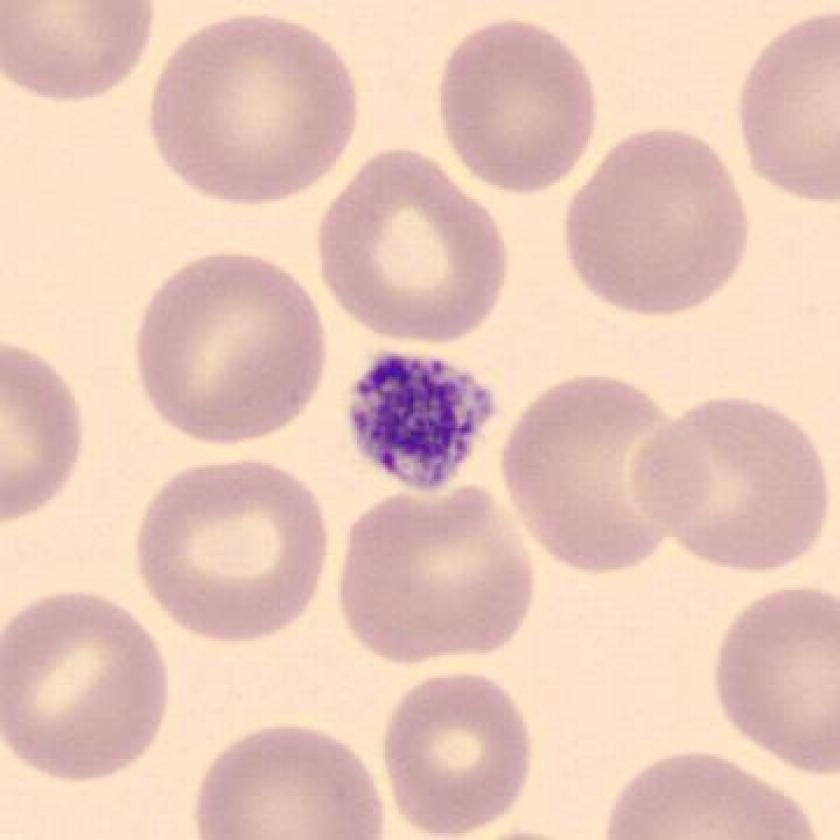platelets: (342, 348, 505, 499)
